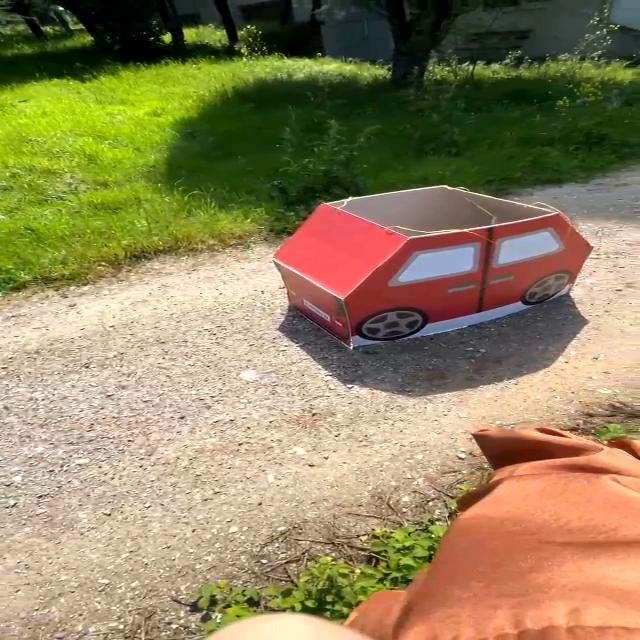red_car: (247, 170, 613, 359)
